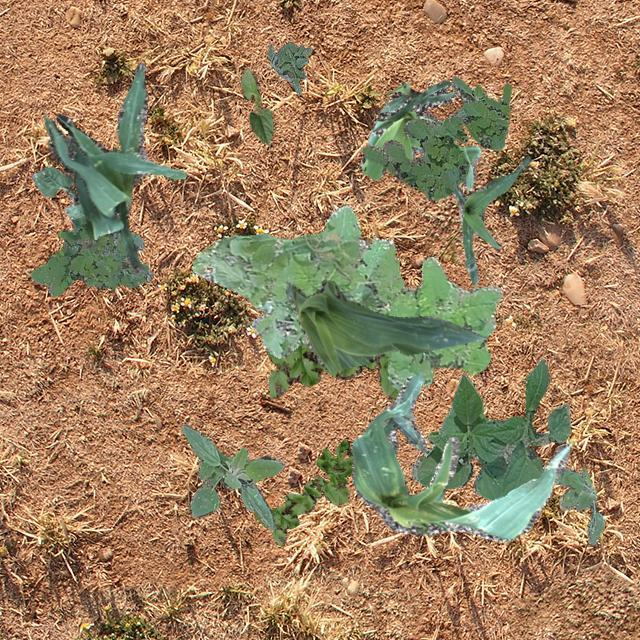crop: (349, 372, 572, 540), (44, 61, 185, 272), (410, 358, 570, 499), (284, 280, 486, 370), (358, 78, 479, 188), (451, 154, 528, 284), (30, 164, 84, 218), (240, 68, 272, 144)
weed: (190, 204, 502, 388), (362, 75, 511, 198), (180, 424, 284, 530), (252, 438, 354, 546), (30, 214, 152, 296), (266, 340, 399, 400), (554, 466, 604, 544), (266, 41, 312, 94)
